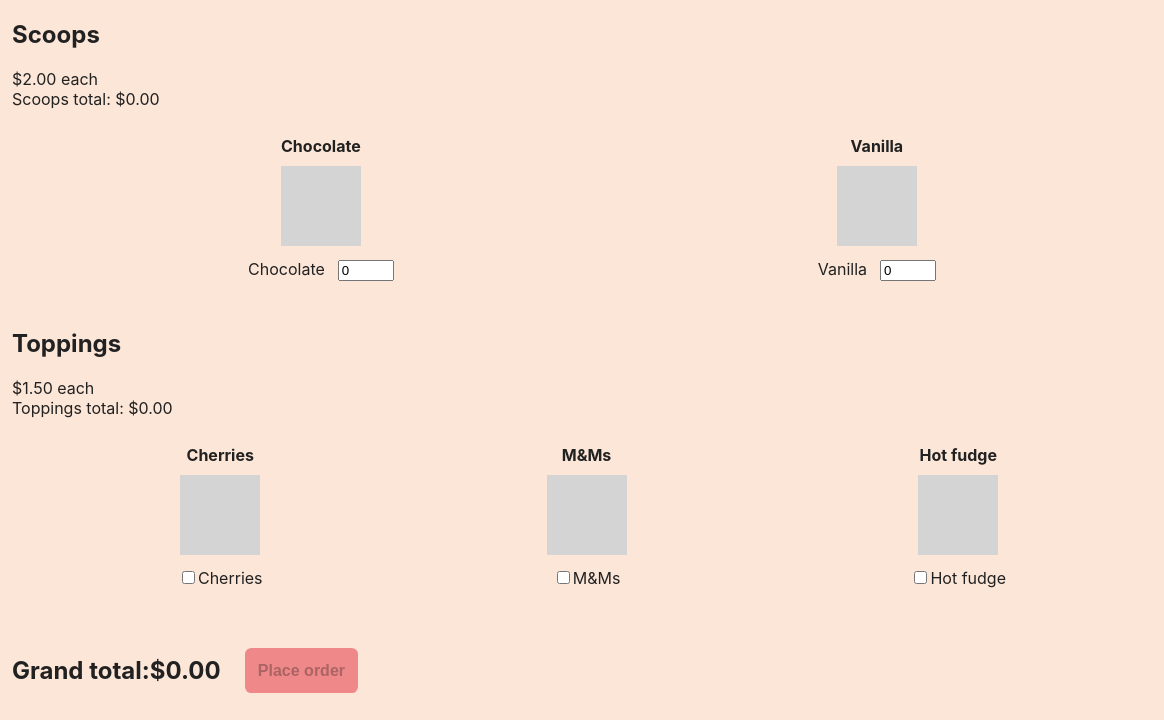
Test: Grand total › Grand total updates properly if scoop is added first
This screenshot has width=1164, height=720.
Check: the heading "Grand total:$0.00" is shown, box [12, 656, 221, 685]
Replace the text in the number field labelled "Vanilla" with "2" at (908, 270), box [880, 260, 936, 281]
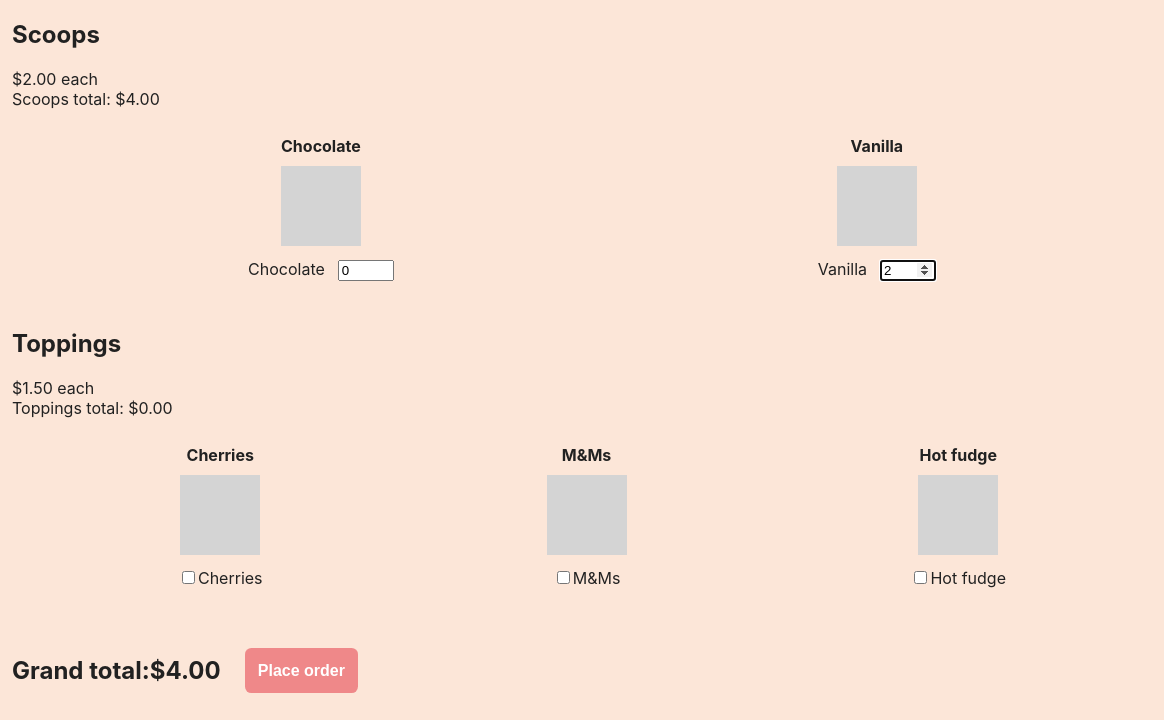
Check: the heading "Grand total:$4.00" is shown, box [12, 656, 221, 685]
Click the checkbox labelled "Cherries" at (188, 578), box [182, 571, 195, 584]
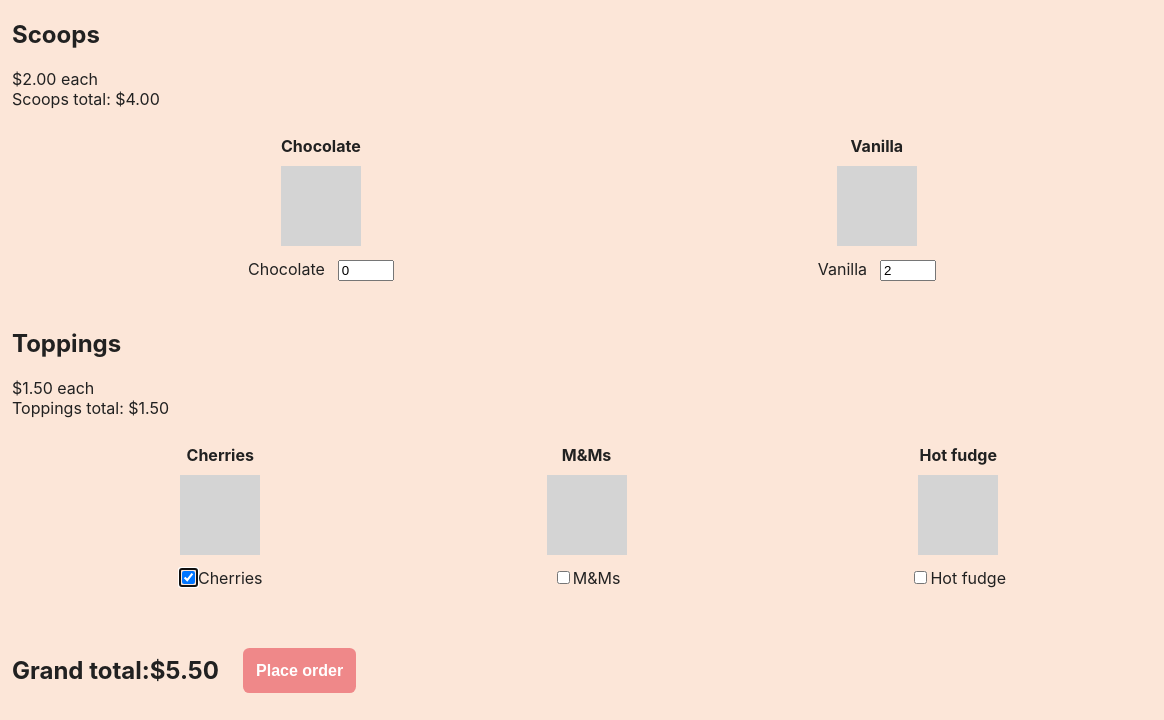
Check: the heading "Grand total:$5.50" is shown, box [12, 656, 219, 685]
